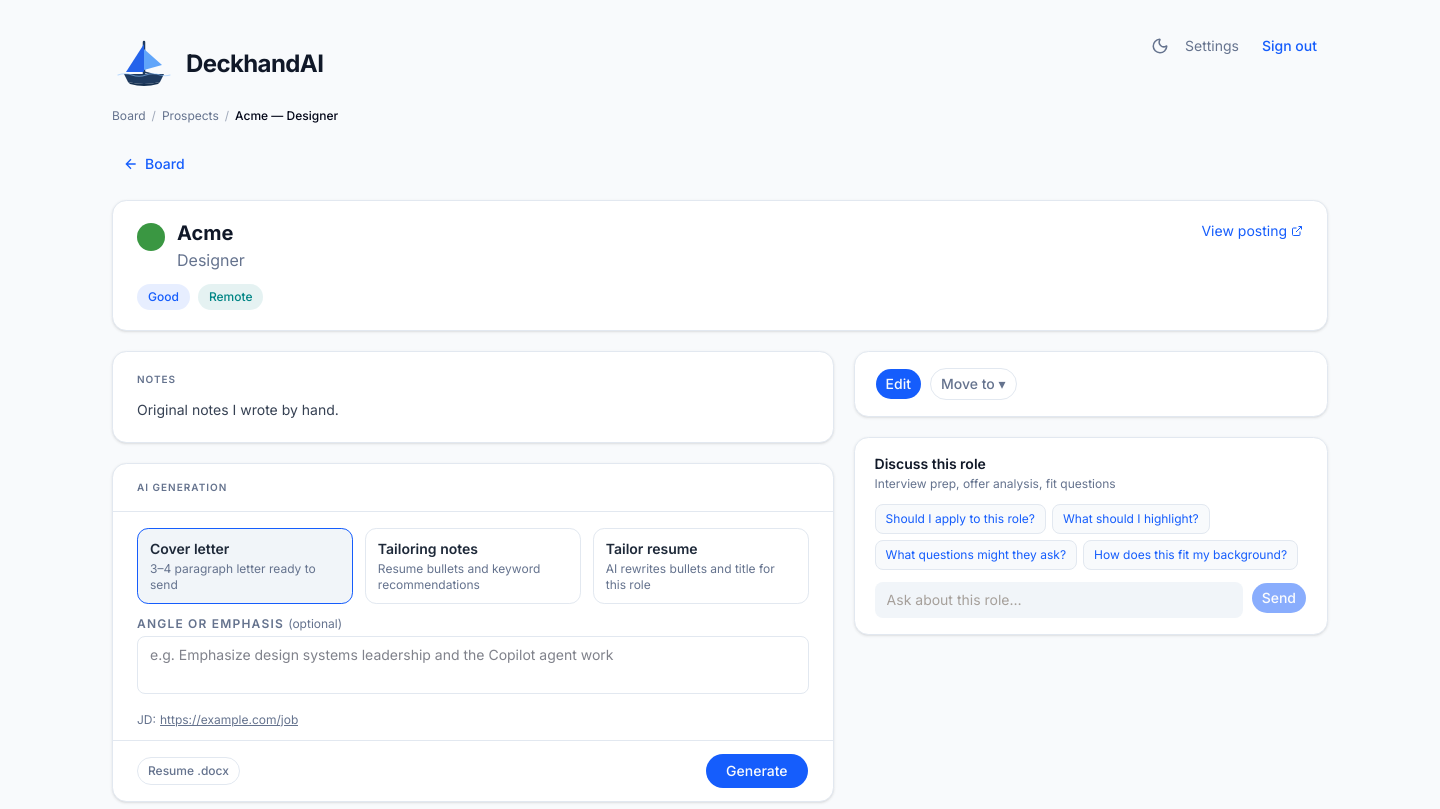
it: JobChat notes refresh confirmation › shows an Apply/Cancel preview instead of auto-saving refreshed notes
Check: the heading "Acme" is shown, box [177, 221, 233, 245]
Type "refresh the notes from the url" into the field with placeholder "Ask about this role…". click: (1059, 600)
box: [875, 582, 1243, 618]
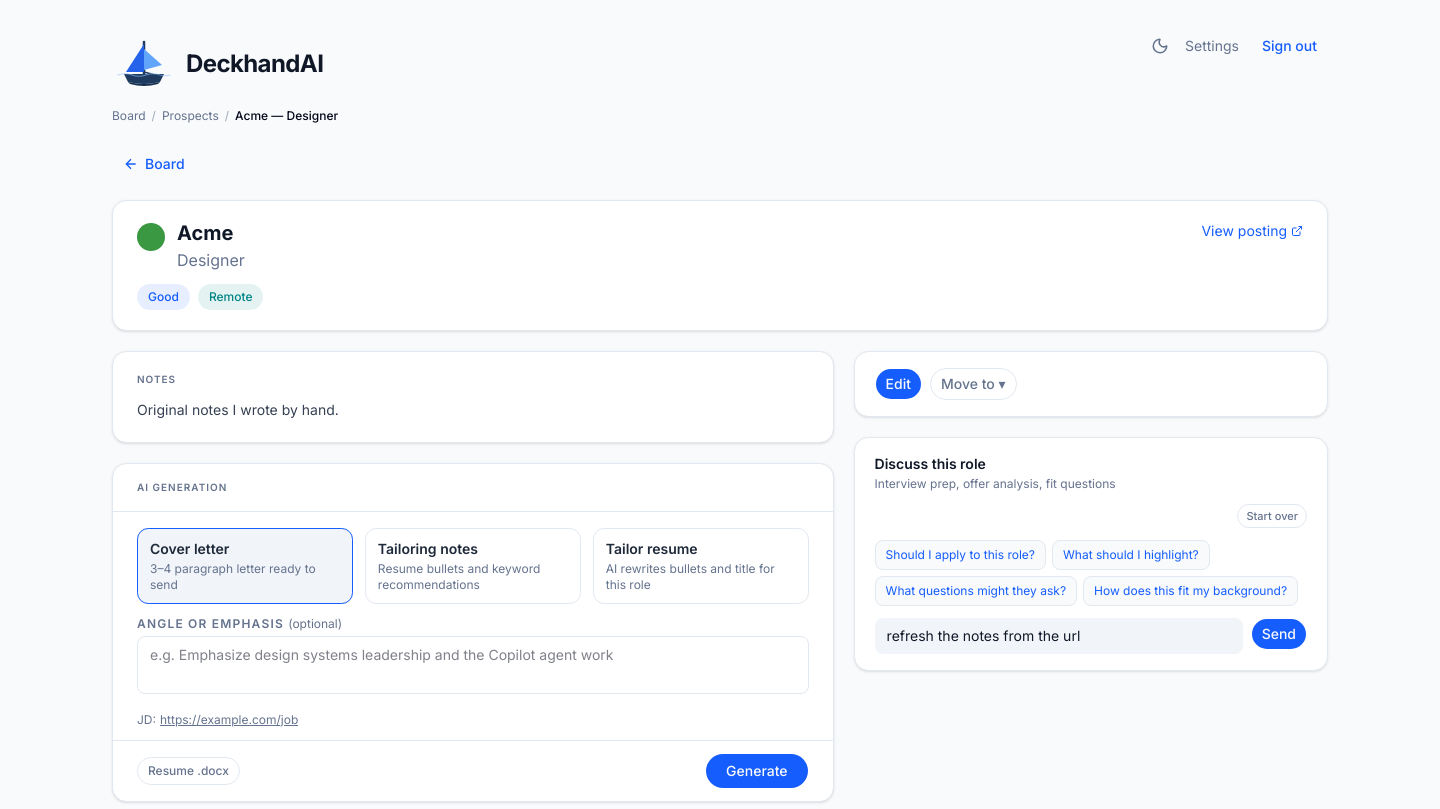
Click the button "Send". click: (1279, 634)
box: [1251, 618, 1307, 650]
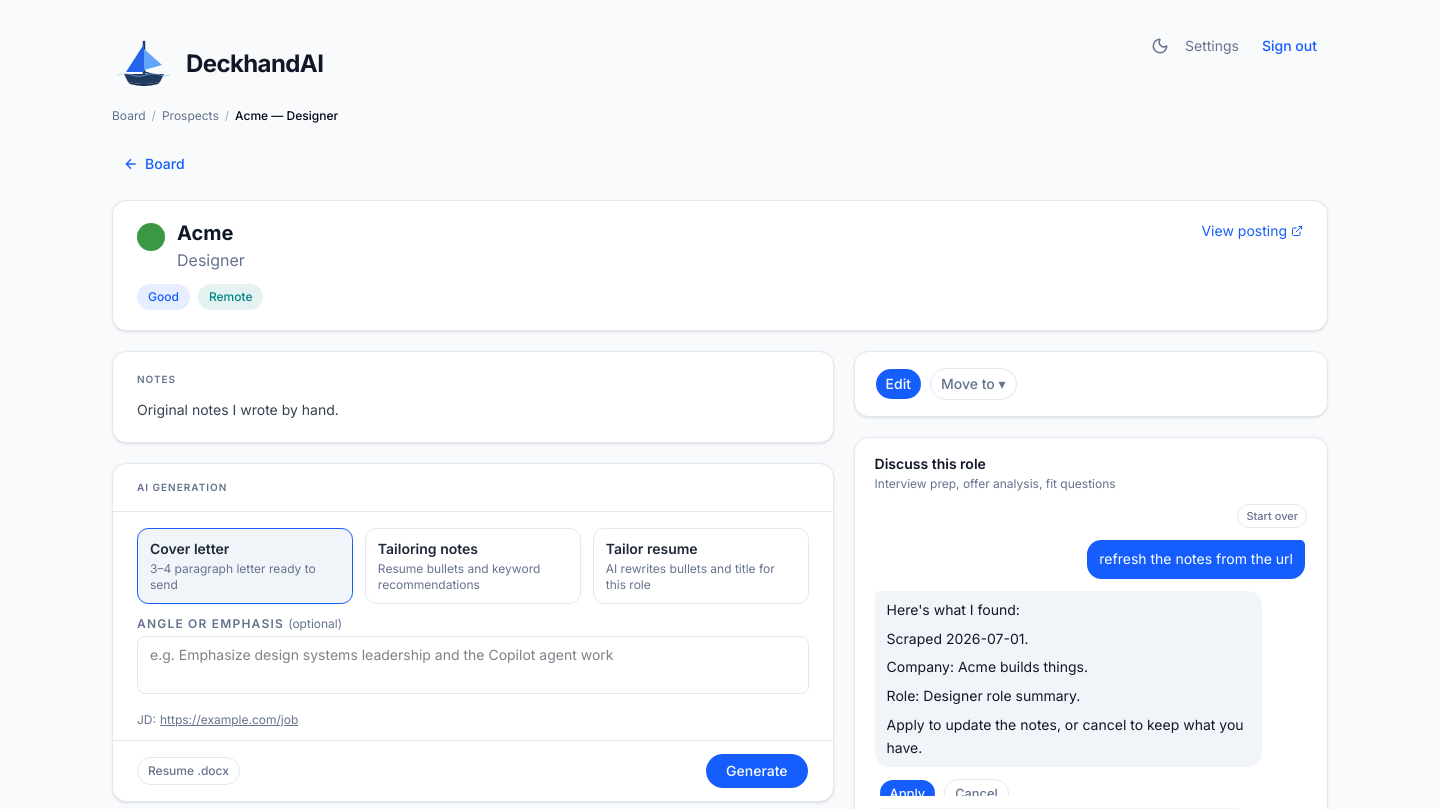
Check: the text "Role: Designer role summary." is shown, box [887, 687, 1080, 704]
